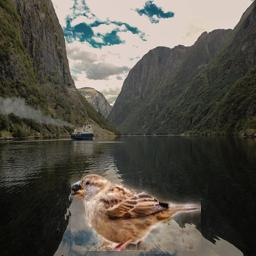Sparrow: (71, 173, 201, 251)
